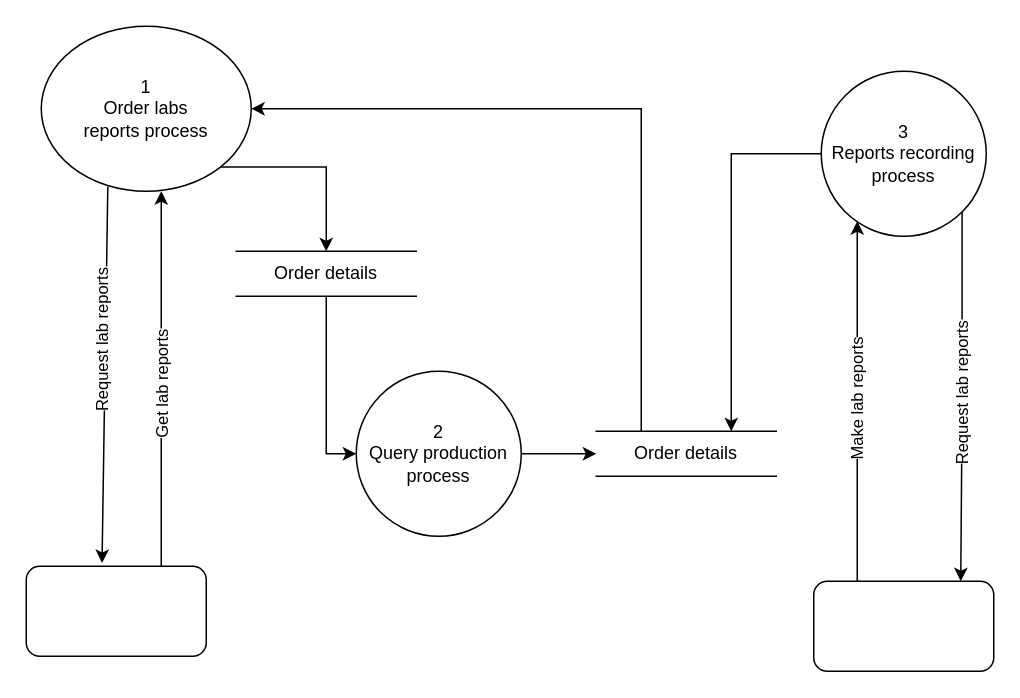
This 1020x698 diagram has some shape labels left out. Here are the shapes that lost their labels. From the top down, the box of each, then its label:
(25, 565, 206, 656): Lab staff
(812, 580, 994, 671): University admins
